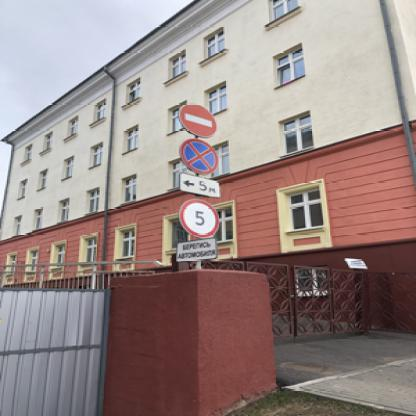speedlimit: (178, 198, 218, 238)
